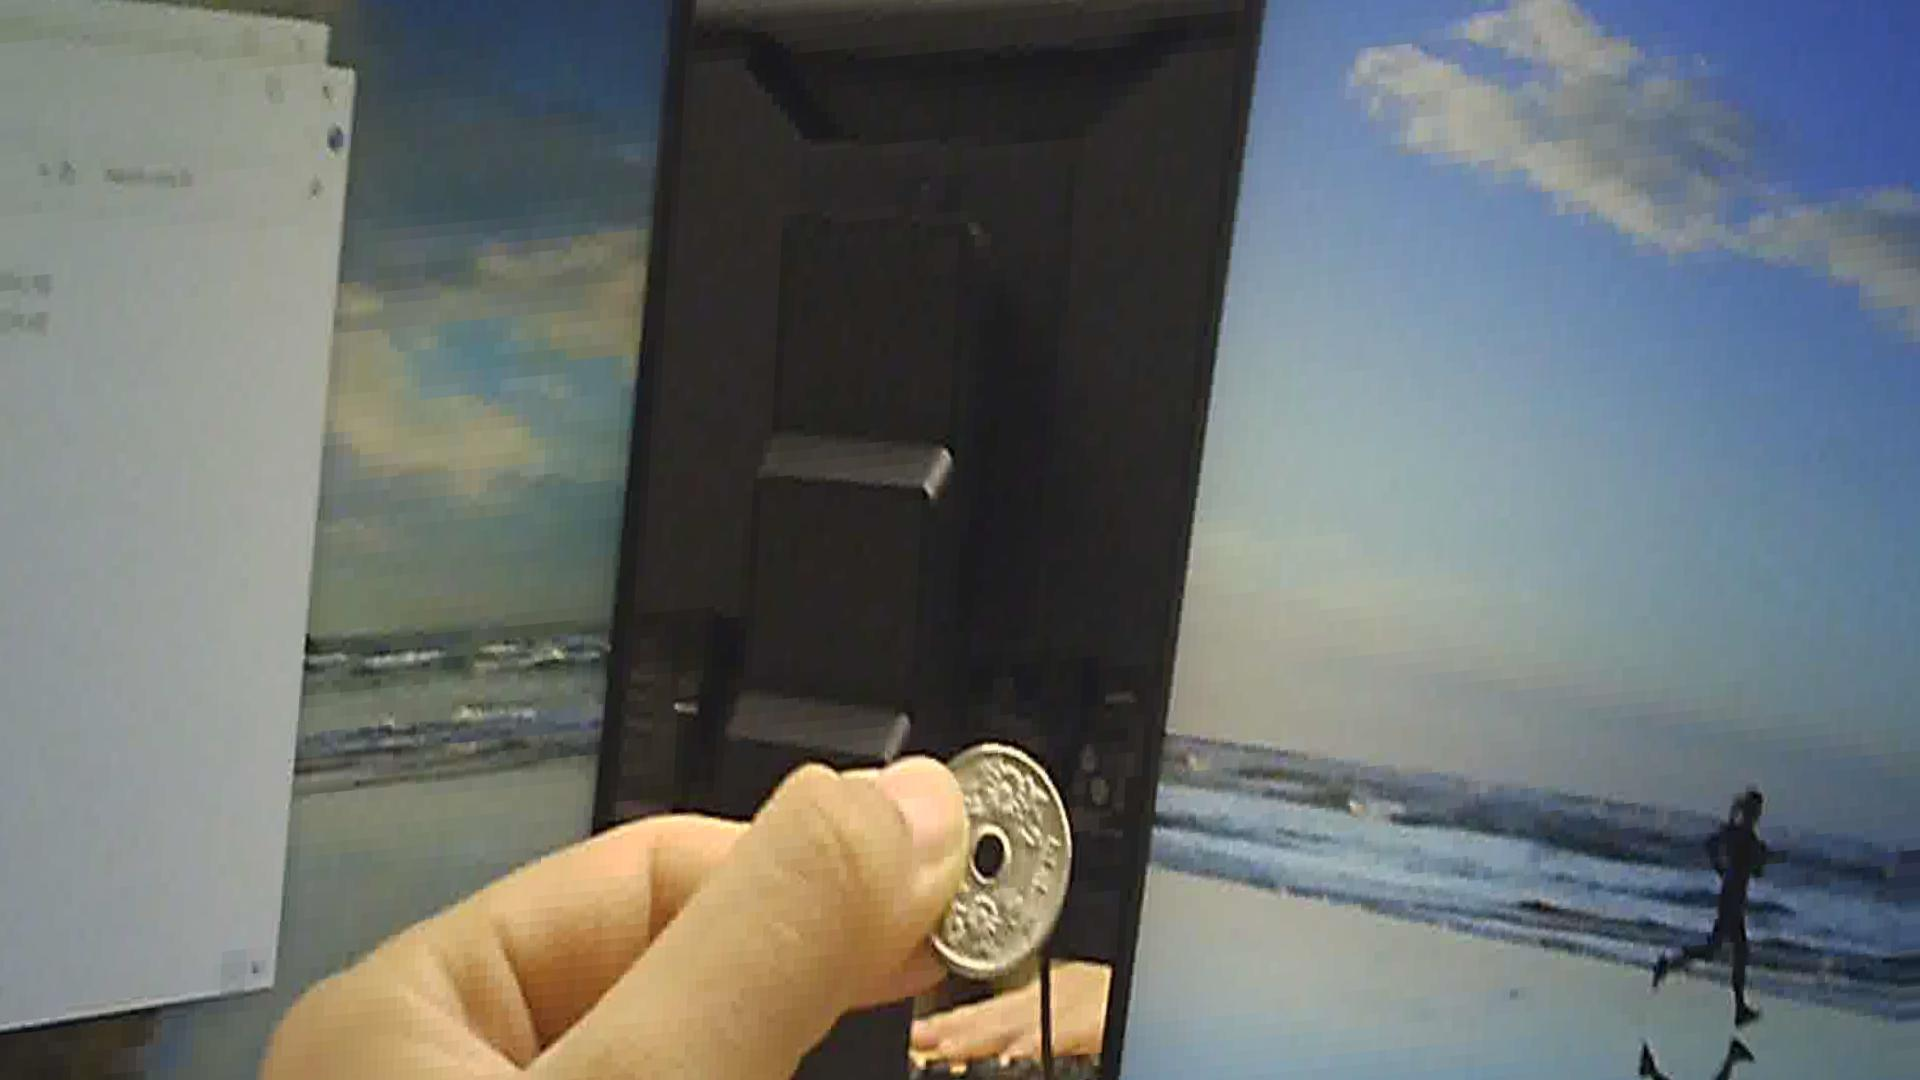50 Yen: (914, 742, 1087, 986)
